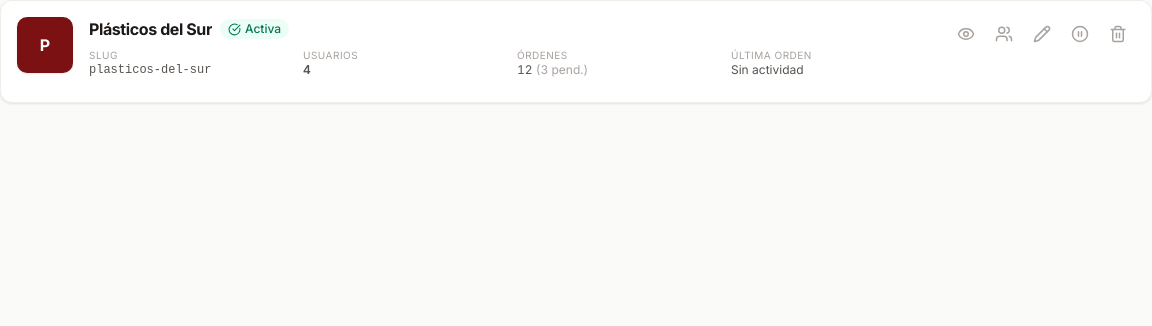
Test: CompanyCard › muestra el error si la acción falla
Step 1. Click the button named "Suspender Plásticos del Sur" → click(1080, 34), box [1063,17,1097,51]
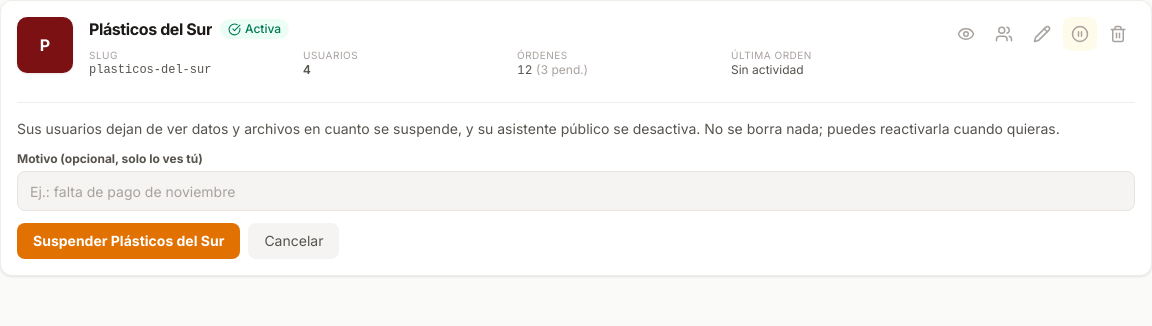
Step 2. Submit the form, box [17,102,1135,259]
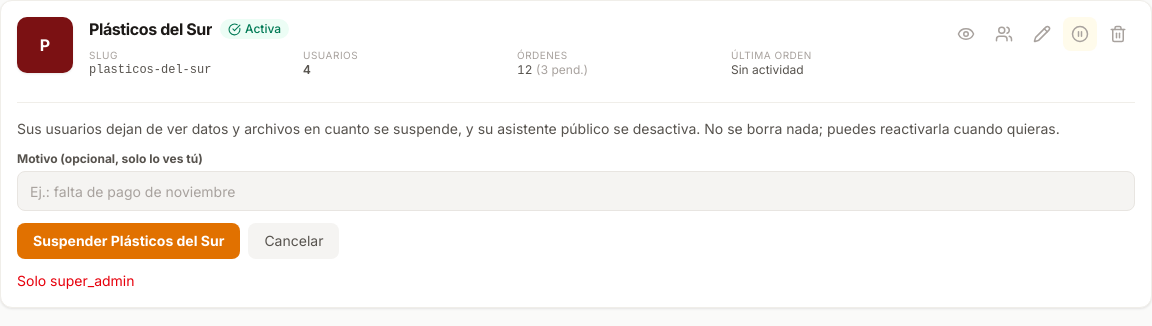
Check: the message "Solo super_admin" is shown, box [17,272,134,289]
